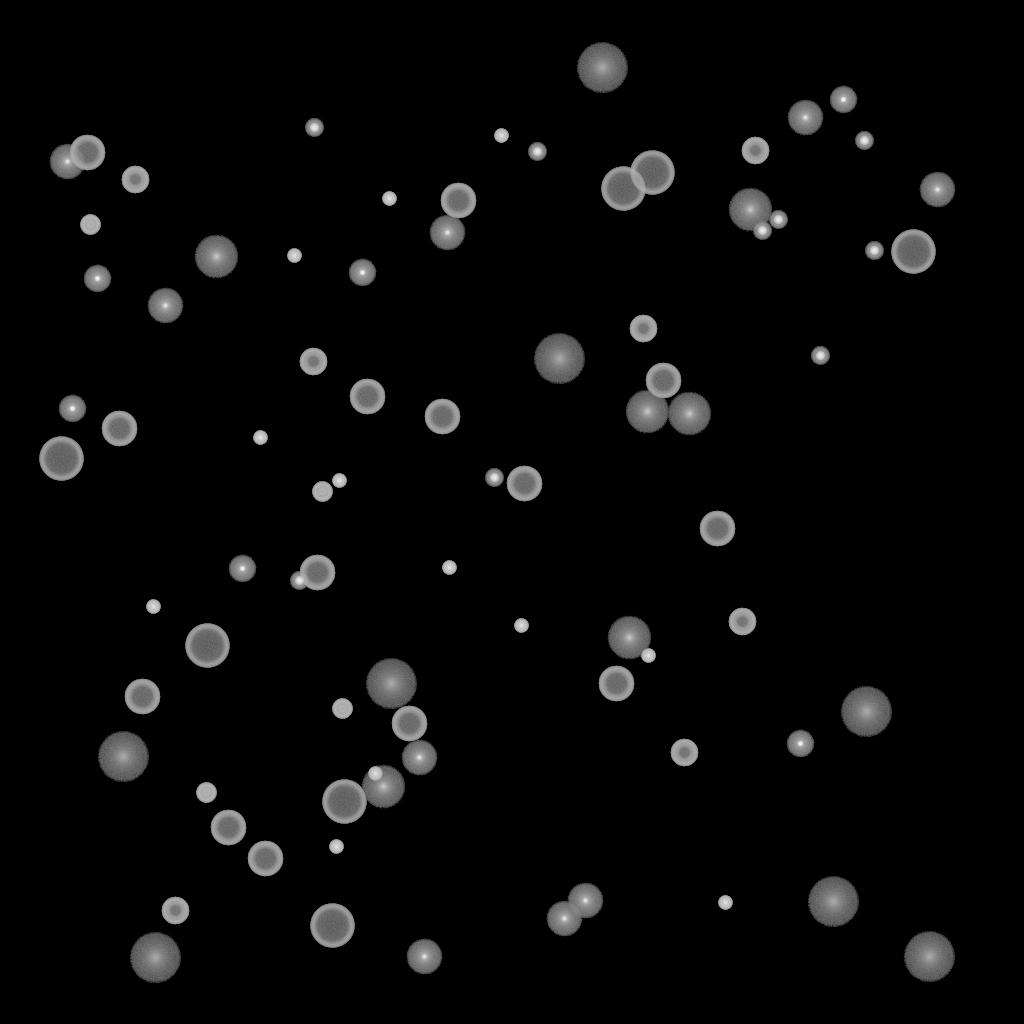depth:-10: (829, 86, 857, 114), (348, 259, 376, 287), (83, 265, 111, 293), (58, 395, 86, 423), (228, 555, 256, 583), (786, 730, 814, 758)
depth:-20: (485, 469, 503, 487), (290, 572, 308, 590), (811, 347, 829, 365), (753, 222, 771, 240), (769, 211, 787, 229), (305, 119, 323, 137), (865, 242, 883, 260), (855, 132, 873, 150), (528, 143, 546, 161)
depth:-30: (494, 129, 508, 143), (146, 600, 160, 614), (442, 561, 456, 575), (718, 896, 732, 910), (329, 840, 343, 854), (253, 431, 267, 445), (382, 192, 396, 206), (514, 619, 528, 633), (368, 767, 382, 781), (332, 474, 346, 488), (641, 649, 655, 663), (287, 249, 301, 263)
depth:-40: (332, 699, 352, 719), (312, 482, 332, 502), (80, 215, 100, 235), (196, 783, 216, 803)
depth:-50: (629, 315, 657, 343), (121, 166, 149, 194), (161, 897, 189, 925), (670, 739, 698, 767), (728, 608, 756, 636), (741, 137, 769, 165), (299, 348, 327, 376)
depth:-60: (645, 363, 681, 399), (391, 706, 427, 742), (349, 379, 385, 415), (124, 679, 160, 715), (506, 466, 542, 502), (299, 555, 335, 591), (699, 511, 735, 547), (210, 810, 246, 846), (101, 411, 137, 447), (69, 135, 105, 171), (440, 183, 476, 219), (247, 841, 283, 877), (424, 399, 460, 435), (598, 666, 634, 702)
depth:-70: (630, 151, 674, 195), (601, 167, 645, 211), (891, 230, 935, 274), (185, 624, 229, 668), (322, 780, 366, 824), (310, 904, 354, 948), (39, 437, 83, 481)
depth:0: (49, 144, 85, 180), (567, 883, 603, 919), (787, 100, 823, 136), (406, 939, 442, 975), (429, 215, 465, 251), (147, 288, 183, 324), (546, 901, 582, 937), (919, 172, 955, 208), (401, 740, 437, 776)
depth:10: (361, 765, 405, 809), (607, 616, 651, 660), (728, 188, 772, 232), (667, 392, 711, 436), (625, 390, 669, 434), (194, 235, 238, 279)
depth:20: (576, 43, 628, 93), (365, 659, 417, 709), (97, 732, 149, 782), (129, 933, 181, 983), (807, 877, 859, 927), (903, 932, 955, 982), (533, 334, 585, 384), (840, 687, 892, 737)
